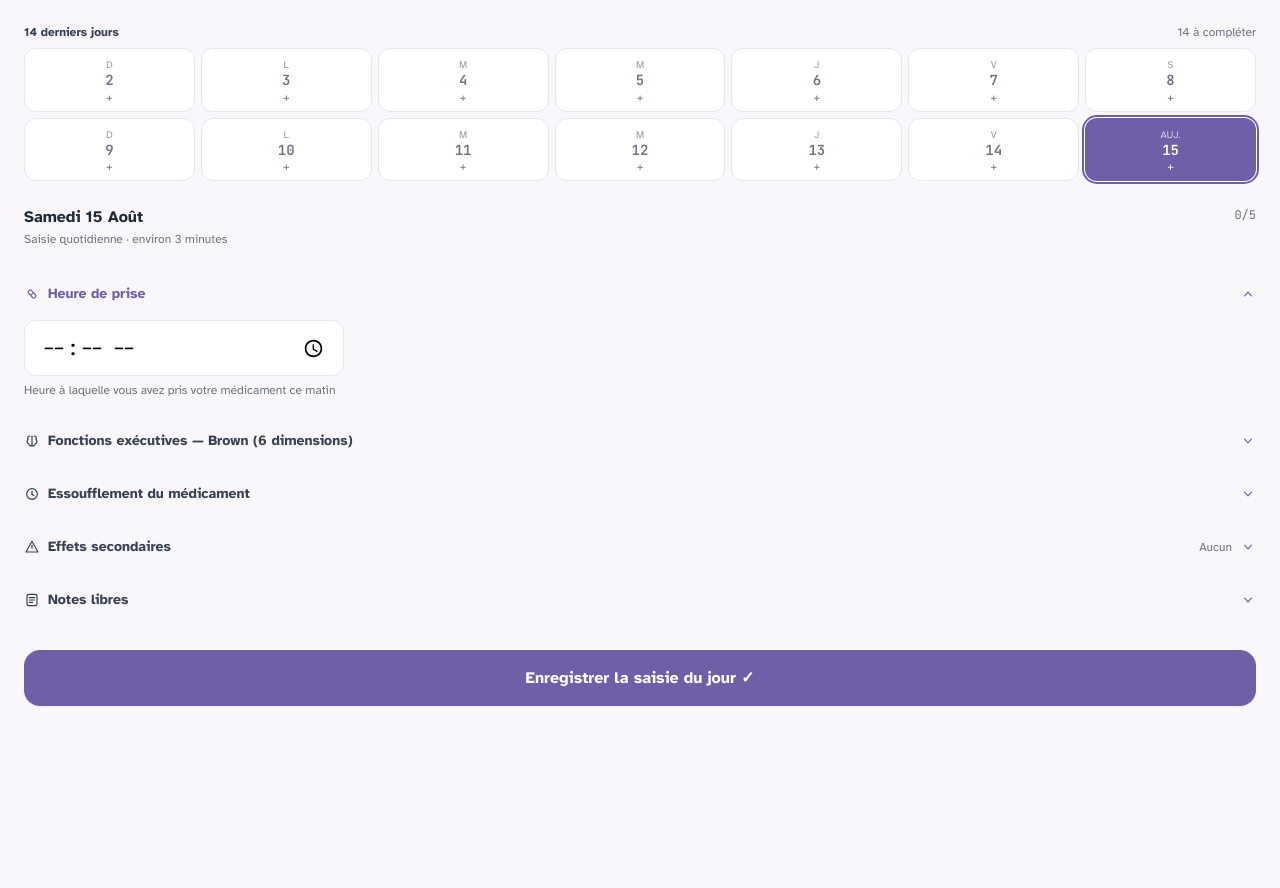
Test case: DailyCheckIn — accordion › reopens a section on demand via its header and shows a collapsed summary
In the time field named "Heure de prise du médicament": (184, 348) [24,320,344,376], type "08:30"
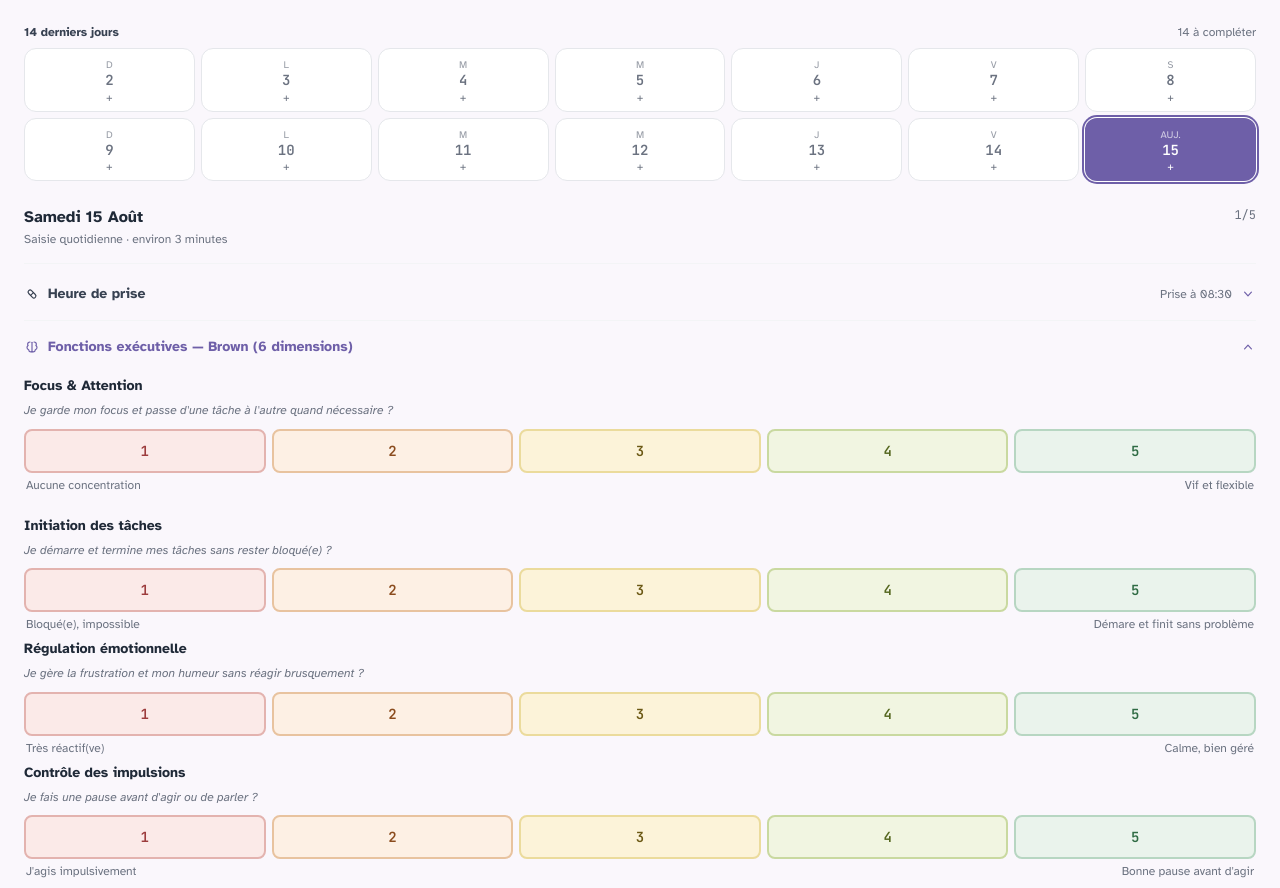
Check: the button "Heure de prise Prise à 08:30" is shown
Check: the button "Heure de prise Prise à 08:30" is collapsed
# Clicking it reopens the section.
Click the button "Heure de prise Prise à 08:30": (97, 294) [24,284,1256,304]
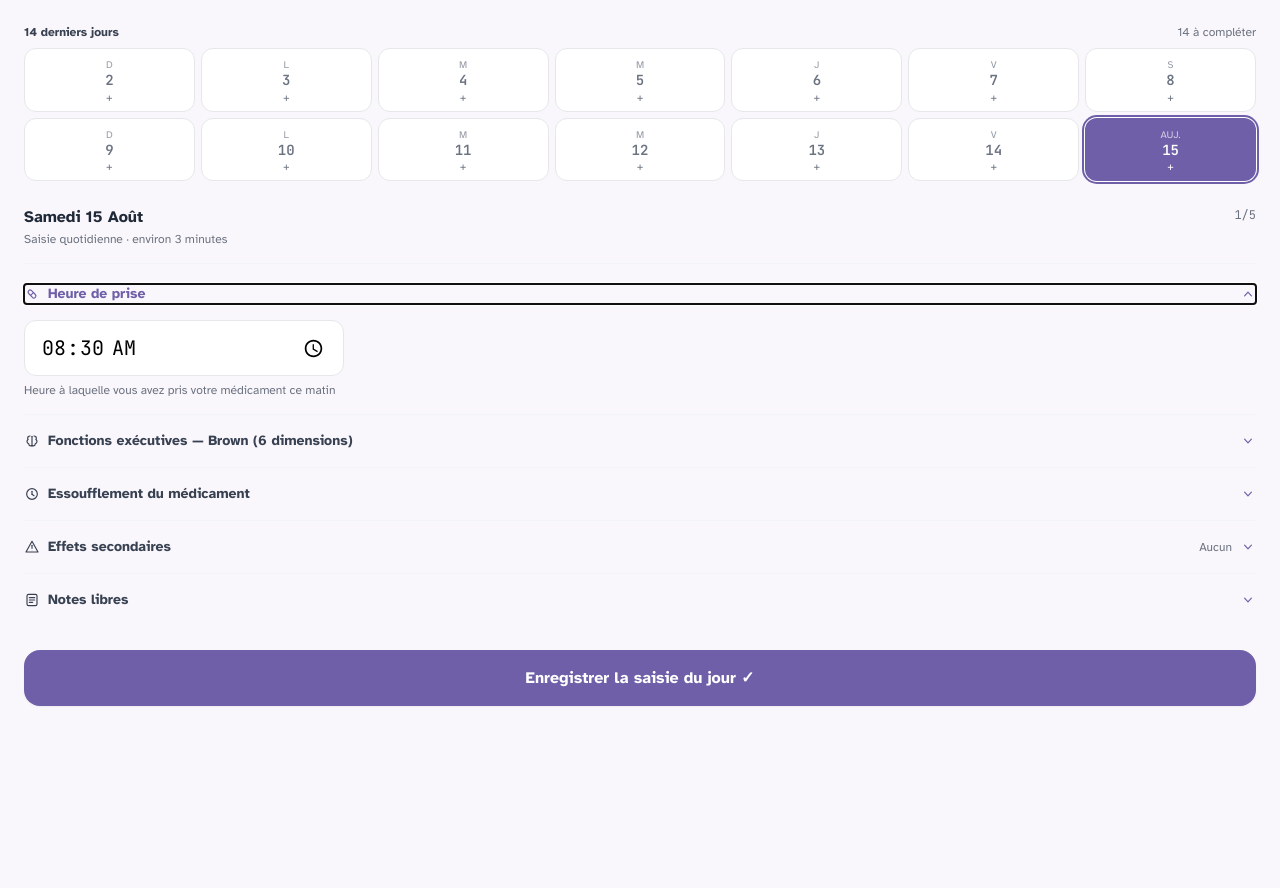
Check: the button "Heure de prise" is expanded, box [24,284,1256,304]
